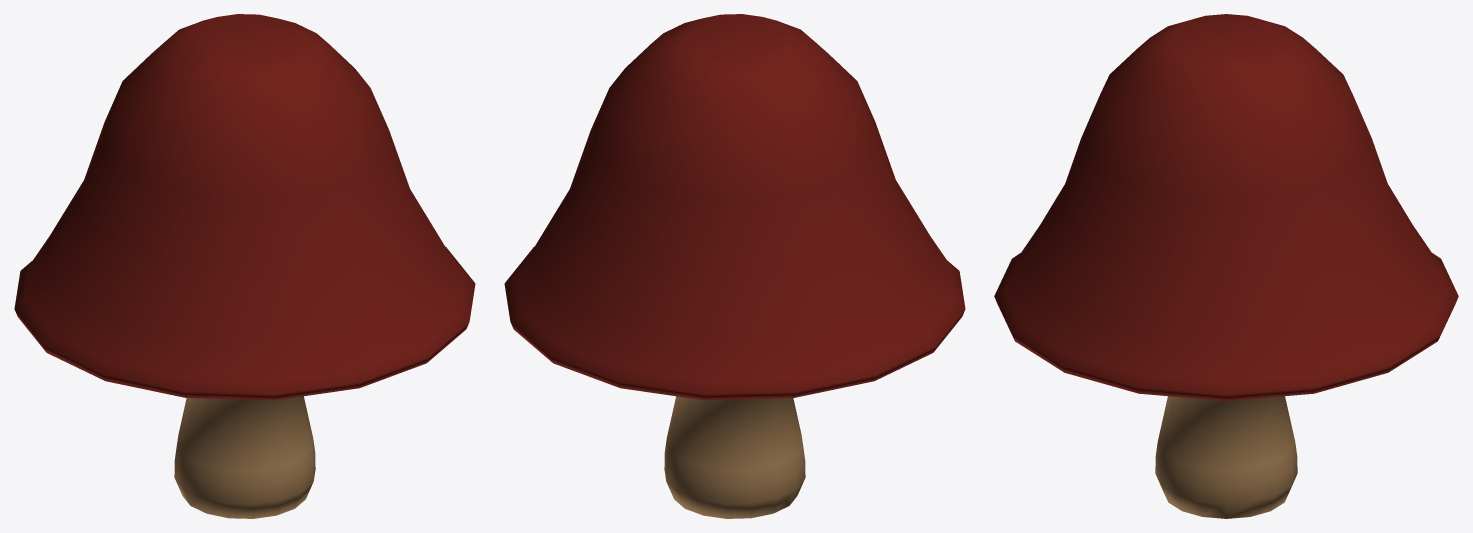
The model's file is shroomtall.fbx.
3 views of the same model, side by side, from view 1: azimuth 30°, elevation 25°; view 2: azimuth 150°, elevation 25°; view 3: azimuth 270°, elevation 25° (orthographic).
Visible parts, largest first — view 1: shroomtall; view 2: shroomtall; view 3: shroomtall.
Boxes of the visible parts, x1=… form: shroomtall: x1=14, y1=14, x2=475, y2=518; shroomtall: x1=504, y1=14, x2=965, y2=518; shroomtall: x1=994, y1=14, x2=1458, y2=518.
Bounding box in the file's own units: 256 × 276 × 256.
